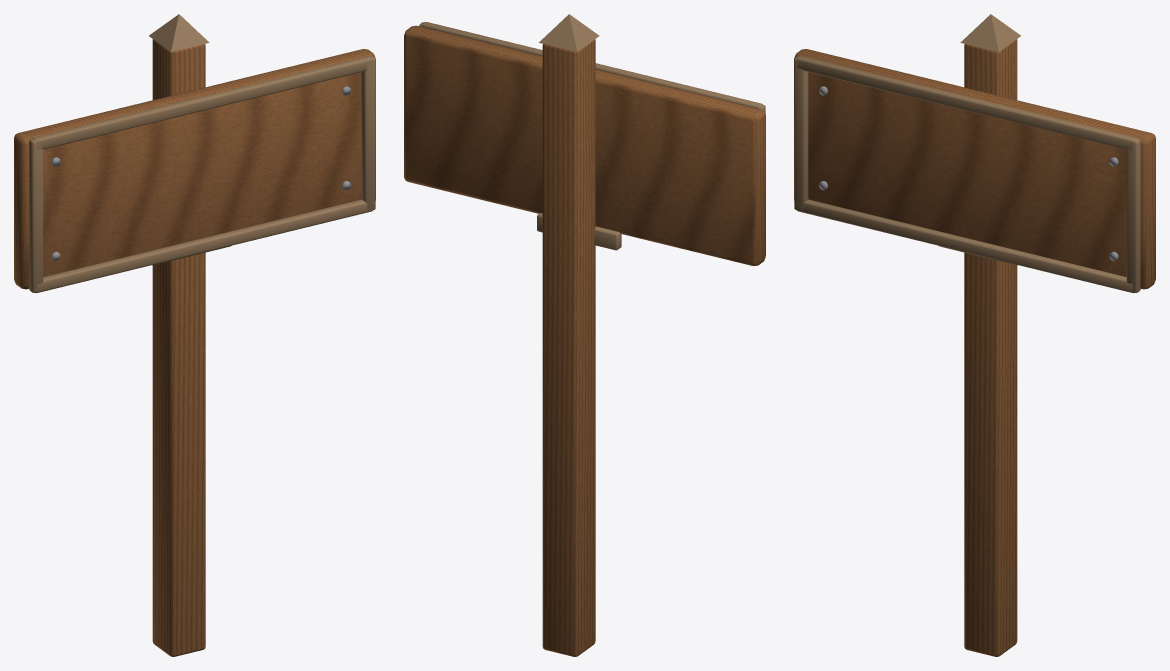
File: WoodSign.glb
3 views of the same model, side by side, from view 1: azimuth 30°, elevation 25°; view 2: azimuth 150°, elevation 25°; view 3: azimuth 330°, elevation 25° (orthographic).
Parts seen in each view (by area): view 1: WoodSign; view 2: WoodSign; view 3: WoodSign.
Boxes of the visible parts, left/top/right/bottom form: WoodSign: left=14, top=14, right=375, bottom=656; WoodSign: left=404, top=14, right=765, bottom=656; WoodSign: left=794, top=14, right=1155, bottom=656.
Bounding box in the file's own units: 2.2 × 3.75 × 0.3952.
Materials: 1 (1 with a texture image).
